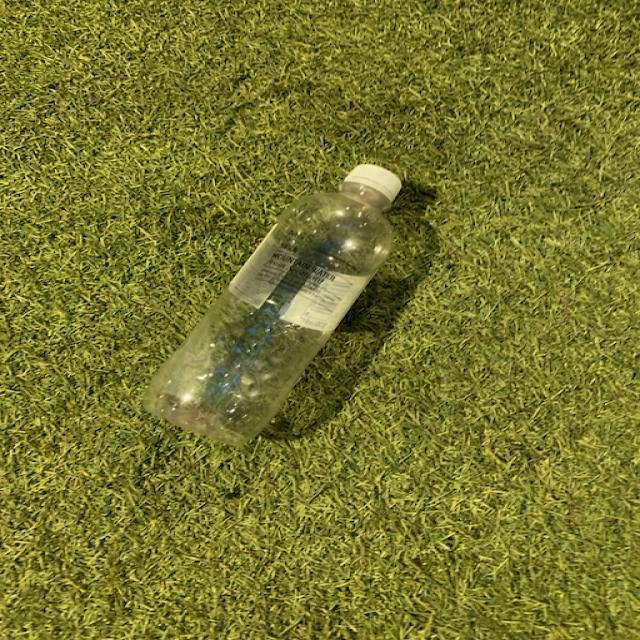bottle: (139, 163, 405, 454)
